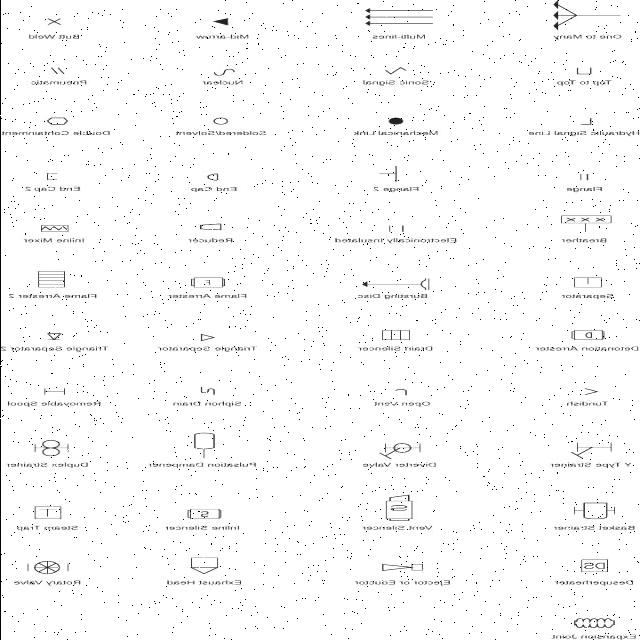Pneumatic-Diaphragm Gate Valve: (40, 60, 86, 77)
